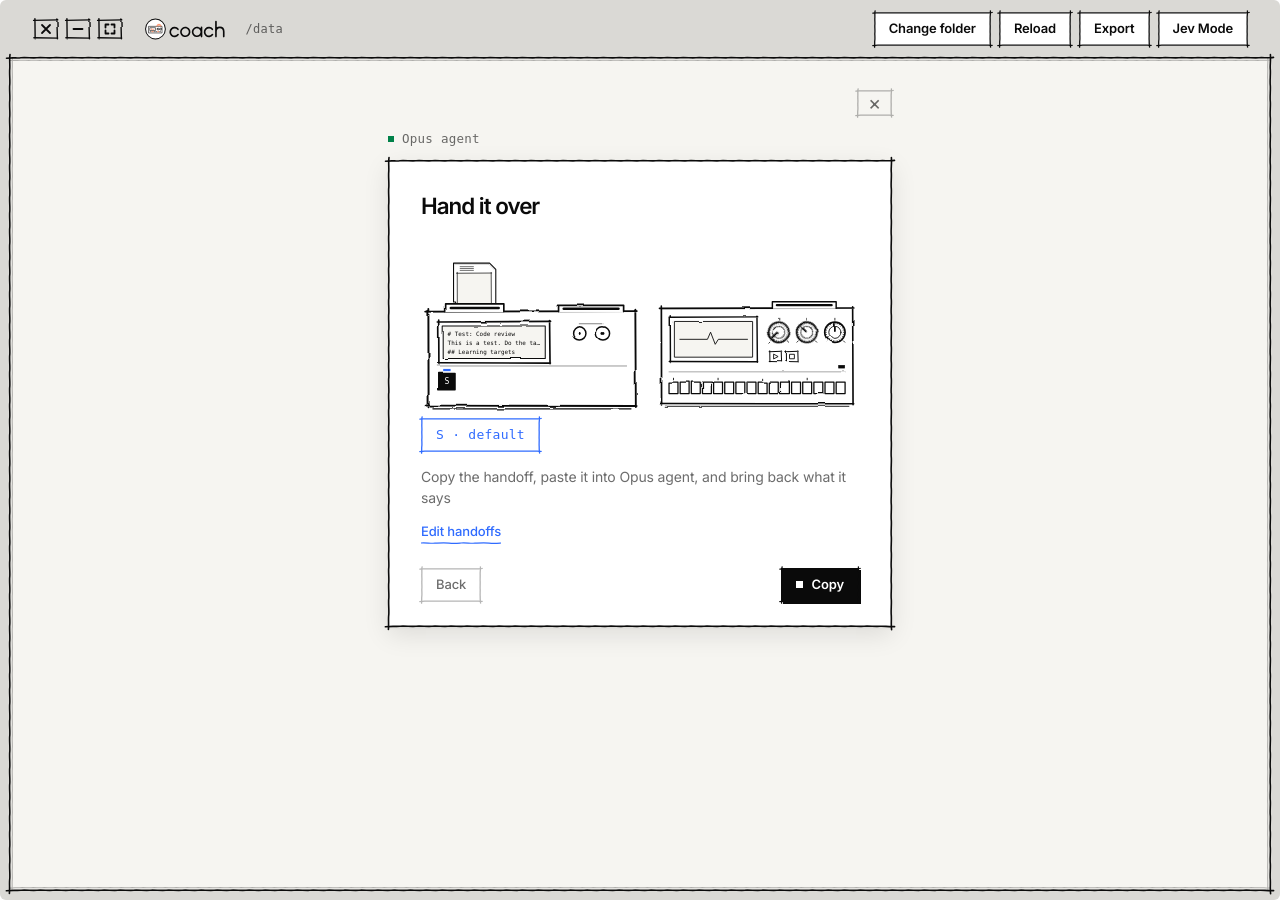
Test: TestDeck › a failed copy says so, stays on the card and leaves nothing waiting
Click the button "Copy": (820, 585) [780,568,859,602]
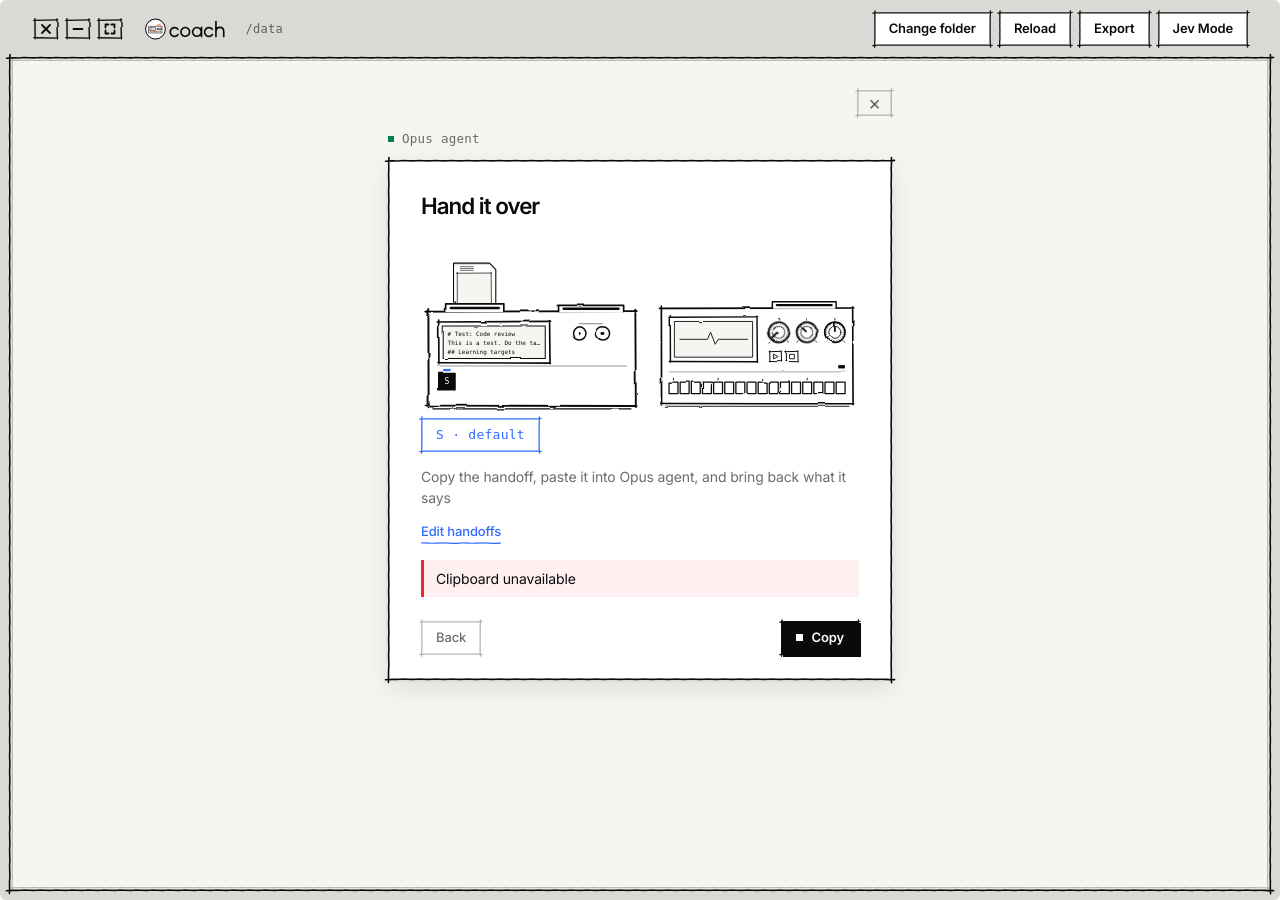
Expected: the heading "Hand it over" is shown, [421,192,539,219]
Now the message reads "Clipboard unavailable", box [436,570,576,587]
